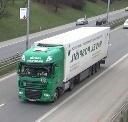Car: (76, 18, 88, 25), (123, 19, 128, 29)
Truck: (16, 27, 109, 104)
